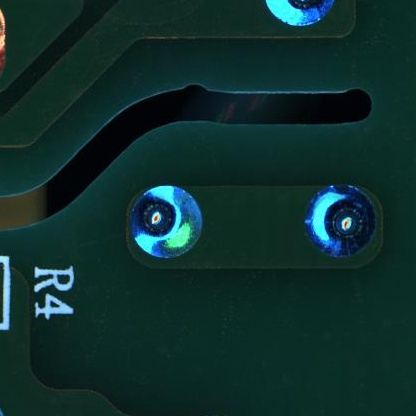spot: (302, 183, 378, 259), (130, 185, 204, 259), (263, 1, 337, 29)
